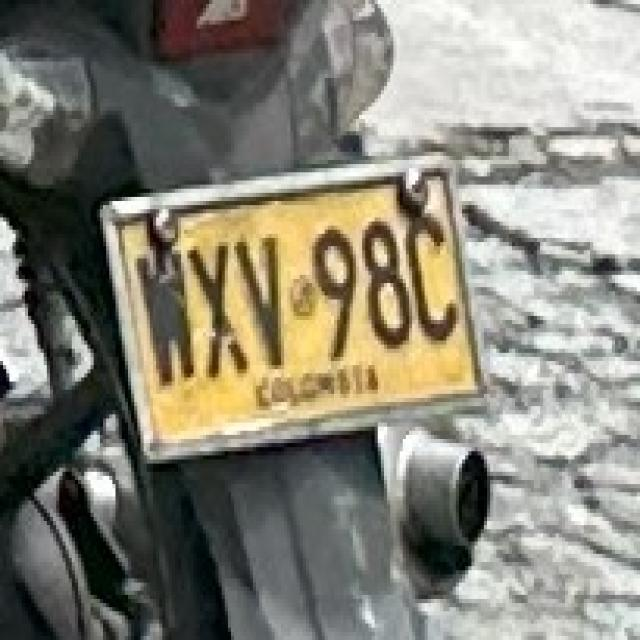number plate: (97, 156, 475, 455)
